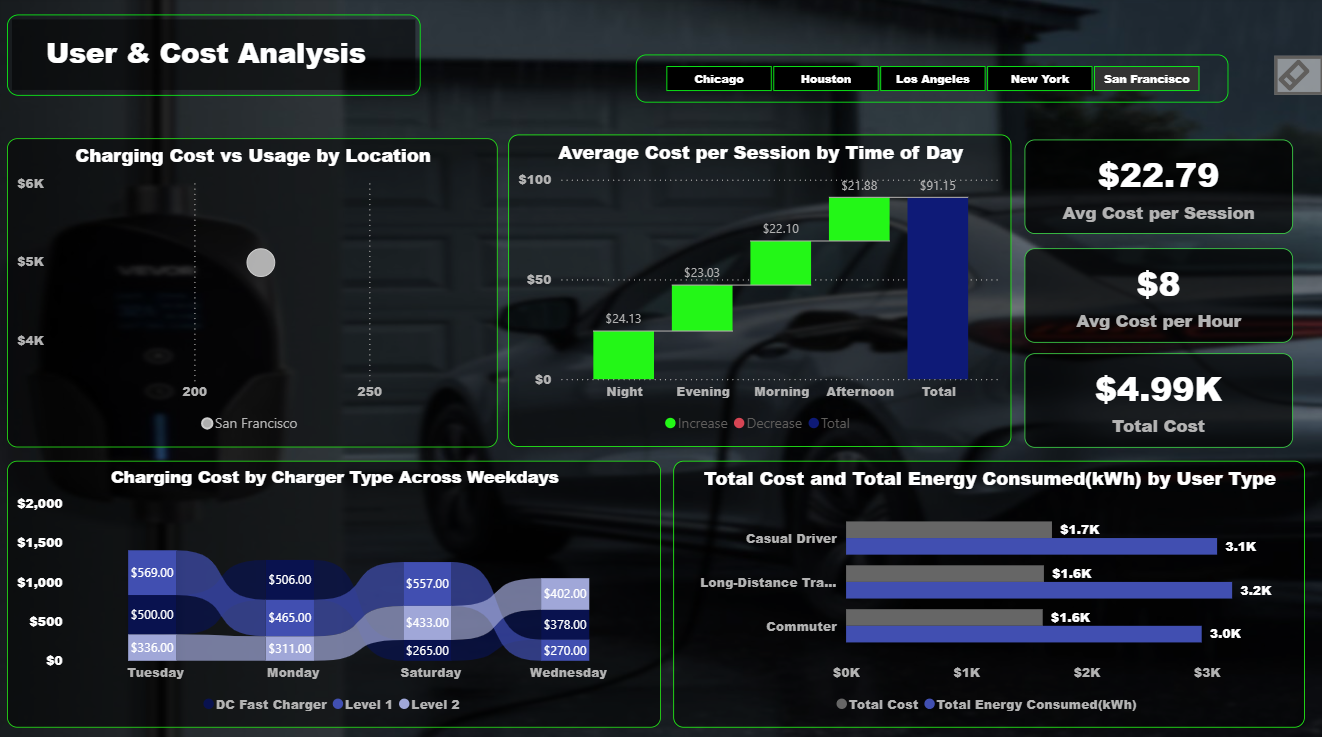

The dashboard page shown, as its layout file describes it:
{"tool":"powerbi","page":{"name":"User & Cost Analysis","canvas":[1280,720],"ordinal":3},"visuals":[{"type":"shape","box":[9.6,16.5,399.3,78.2],"z":0},{"type":"textbox","box":[42.5,28.8,334.8,52.1],"z":1000},{"type":"card","fields":{"Values":["Calculated-tbl.Total Cost"]},"box":[991.5,343.9,259,90.8],"z":2000},{"type":"card","fields":{"Values":["Calculated-tbl.Avg Cost per Session"]},"box":[991.5,137,259,90.8],"z":3000},{"type":"card","fields":{"Values":["Calculated-tbl.Avg Cost per Hour"]},"box":[991.5,242.7,259,90.8],"z":4000},{"type":"slicer","fields":{"Values":["Dim_Location.Charging Station Location"]},"box":[616.3,55.1,571.7,46.2],"z":5000},{"type":"scatterChart","title":"Charging Cost vs Usage by Location","fields":{"Series":["Dim_Location.Charging Station Location"],"Size":["Calculated-tbl.Avg Charging Time(hrs)"],"X":["Calculated-tbl.Total Charging Sessions"],"Y":["Calculated-tbl.Total Cost"]},"box":[9.2,136.3,473.2,298.6],"z":6000},{"type":"ribbonChart","title":"Charging Cost by Charger Type Across Weekdays","fields":{"Category":["Dim_period.Day of Week"],"Series":["Dim_Charger.Charger Type"],"Y":["Calculated-tbl.Total Cost"]},"box":[9.2,447.2,631,257.3],"z":7000},{"type":"clusteredBarChart","fields":{"Category":["Dim_Vehicle.Vehicle Model","Dim_User.User Type"],"Y":["Calculated-tbl.Total Cost","Calculated-tbl.Total Energy Consumed(kWh)"]},"box":[652.4,447.2,609.5,257.3],"z":8000},{"type":"waterfallChart","title":"Average Cost per Session by Time of Day","fields":{"Category":["Dim_period.Time of Day"],"Y":["Calculated-tbl.Avg Cost per Session"]},"box":[493.1,133.2,485.5,301.7],"z":9000},{"type":"actionButton","box":[1232.6,56.9,47.4,37.9],"z":10000}]}

Visuals, with their boxes in screenshot pixels (x1, y1, x2, y2), scaled from the page's 1280x720 canvas onto the 1322x737 screenshot:
shape: detection(10, 17, 422, 97)
textbox: detection(44, 29, 390, 83)
card - Calculated-tbl.Total Cost: detection(1024, 352, 1292, 445)
card - Calculated-tbl.Avg Cost per Session: detection(1024, 140, 1292, 233)
card - Calculated-tbl.Avg Cost per Hour: detection(1024, 248, 1292, 341)
slicer - Dim_Location.Charging Station Location: detection(637, 56, 1227, 104)
"Charging Cost vs Usage by Location" scatterChart: detection(10, 140, 498, 445)
"Charging Cost by Charger Type Across Weekdays" ribbonChart: detection(10, 458, 661, 721)
clusteredBarChart - Dim_Vehicle.Vehicle Model x Dim_User.User Type: detection(674, 458, 1303, 721)
"Average Cost per Session by Time of Day" waterfallChart: detection(509, 136, 1011, 445)
actionButton: detection(1273, 58, 1321, 97)
